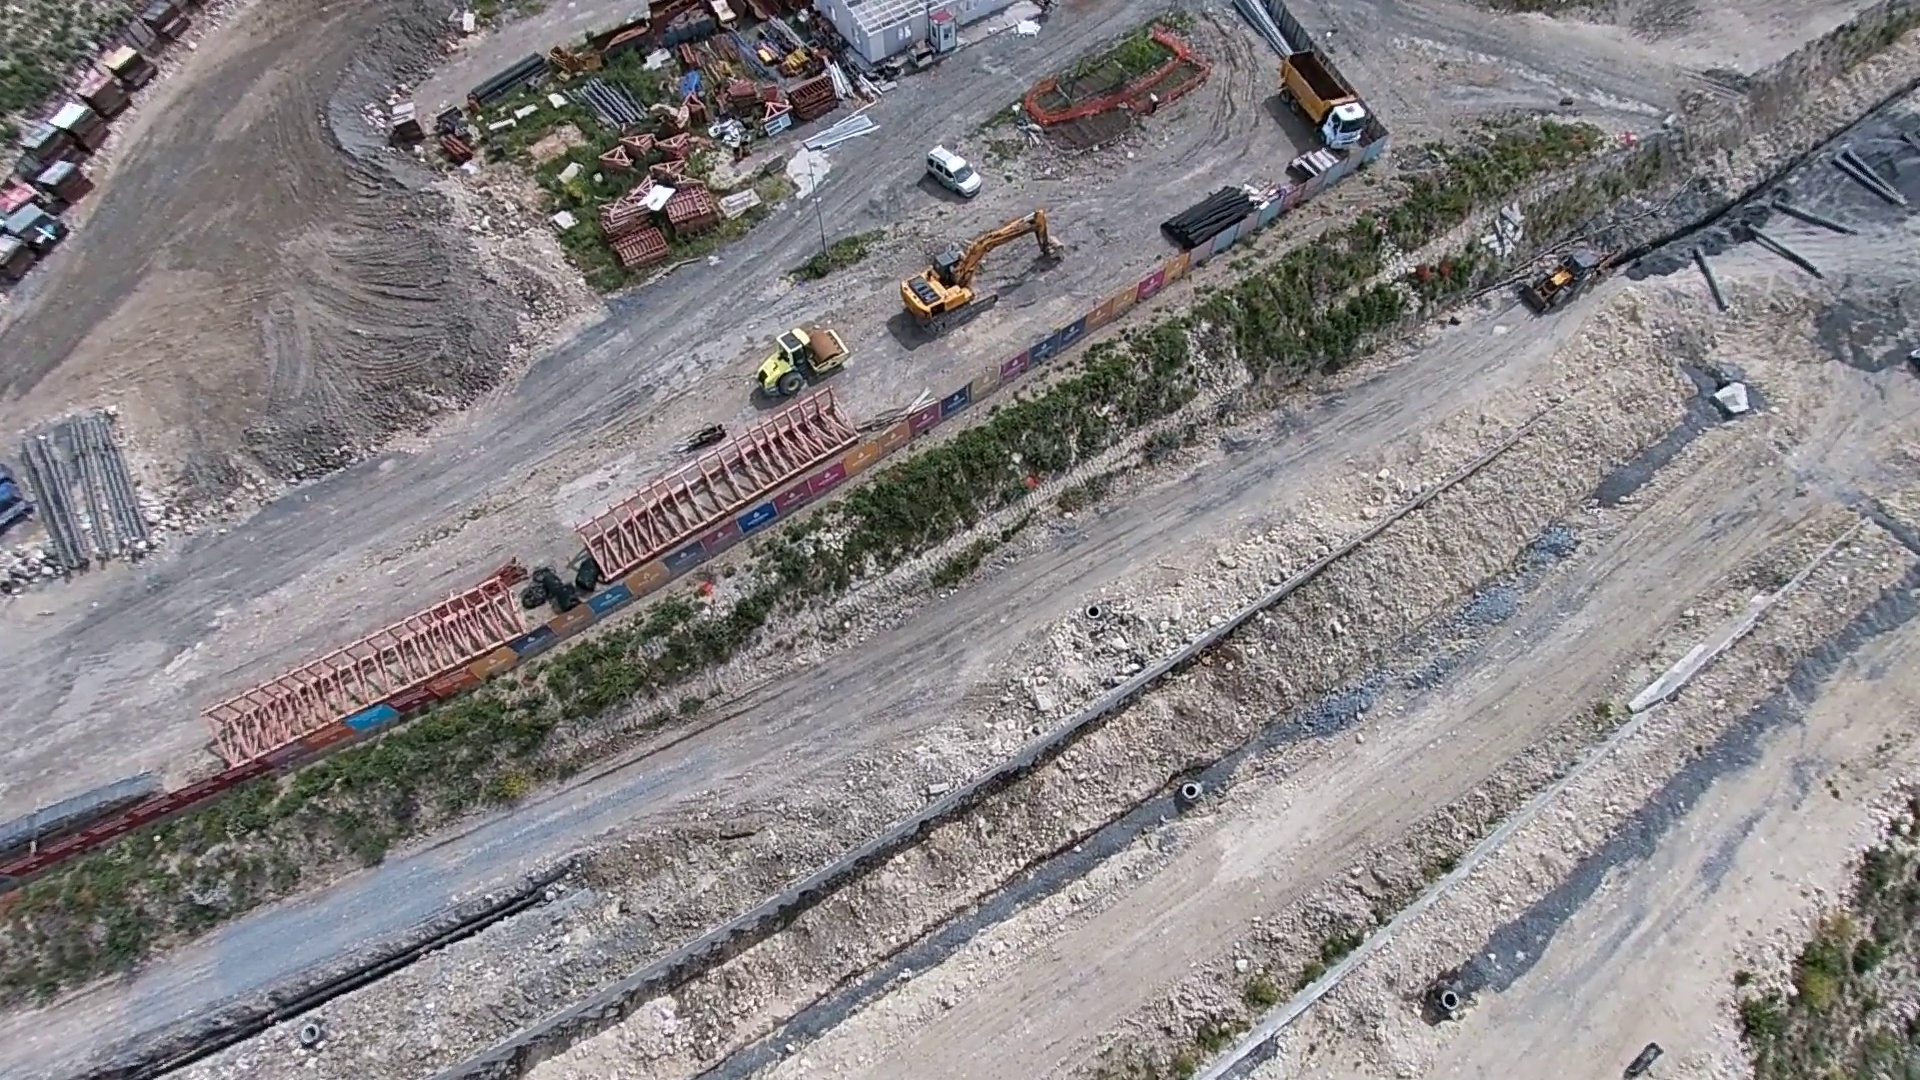arac: (884, 204, 1080, 336), (1265, 44, 1387, 148), (745, 316, 861, 396), (1516, 233, 1604, 318), (923, 131, 980, 200)
